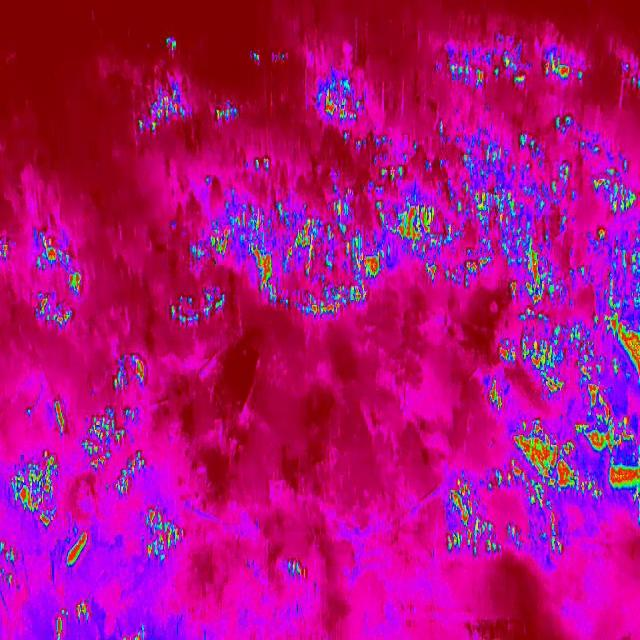fire: (165, 119, 640, 320), (446, 314, 640, 565), (40, 345, 189, 569), (0, 448, 95, 588), (440, 30, 594, 95), (0, 226, 86, 334), (134, 80, 249, 138), (306, 63, 372, 135), (48, 600, 102, 640), (284, 557, 311, 582)
